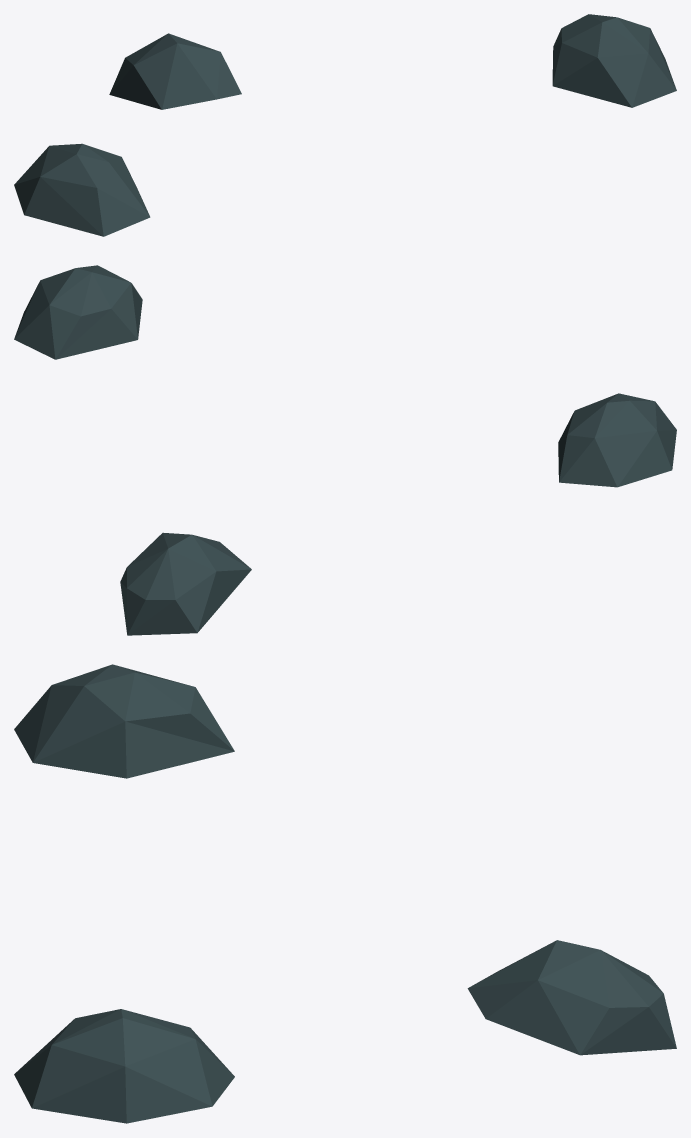
File: ant-head-dots.dae
3 renders of one model, top to bottom at view 1: azimuth 30°, elevation 25°; view 2: azimuth 150°, elevation 25°; view 3: azimuth 270°, elevation 25°, orthographic. The views are drawn at different scales.
Visible parts, largest first — view 1: ant-head-dots; view 2: ant-head-dots; view 3: ant-head-dots.
Part boxes in pixels (x1,y1,x2,y2): ant-head-dots: [14, 14, 676, 236]; ant-head-dots: [14, 265, 676, 635]; ant-head-dots: [14, 664, 676, 1123].
Size of the model in its own units: 1.66 by 1.11 by 0.3683.
